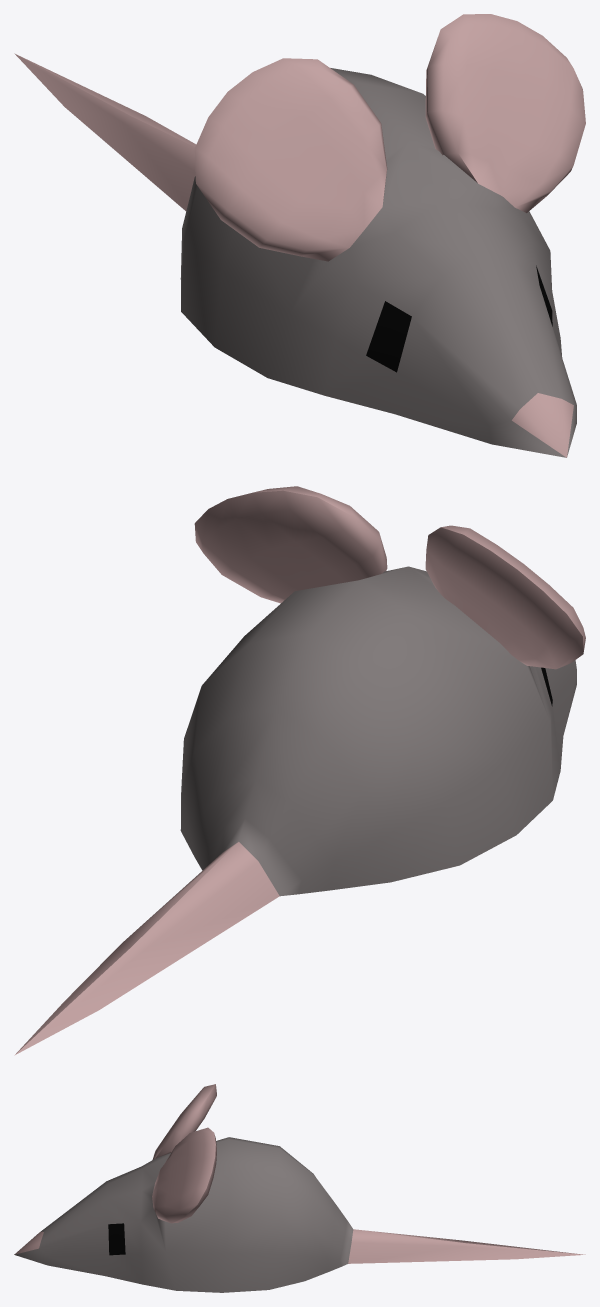
File: rat mesh scaled.fbx
3 views of the same model, one above another, from view 1: azimuth 30°, elevation 25°; view 2: azimuth 150°, elevation 25°; view 3: azimuth 270°, elevation 25° (orthographic). The views are drawn at different scales.
Visible parts, largest first — view 1: rat_mesh; view 2: rat_mesh; view 3: rat_mesh.
Boxes of the visible parts, <box> form: rat_mesh: <box>14,14,585,457</box>; rat_mesh: <box>14,486,585,1055</box>; rat_mesh: <box>14,1084,585,1292</box>.
Bounding box in the file's own units: 6.13 × 4.24 × 15.17.
